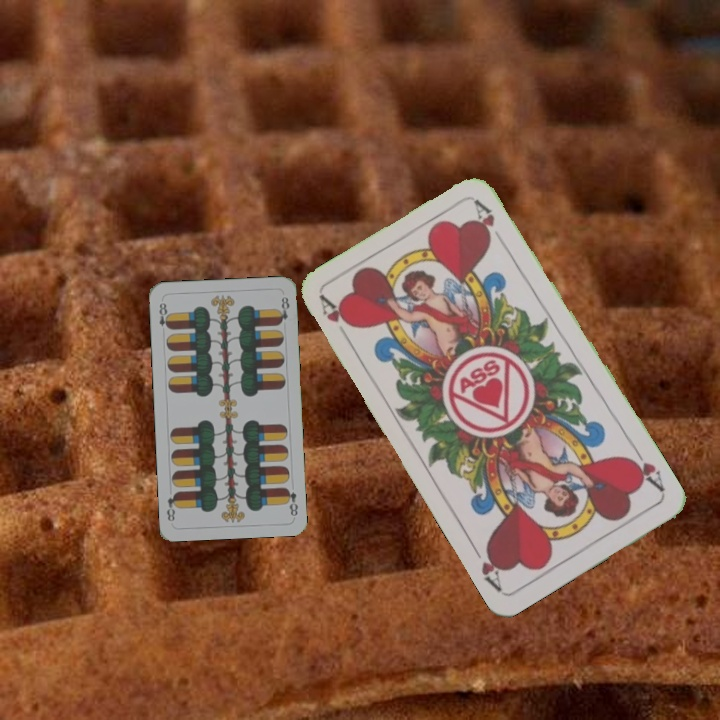E8: (281, 484, 300, 519), (155, 298, 173, 331)
HA: (622, 443, 668, 495), (316, 292, 358, 346)
